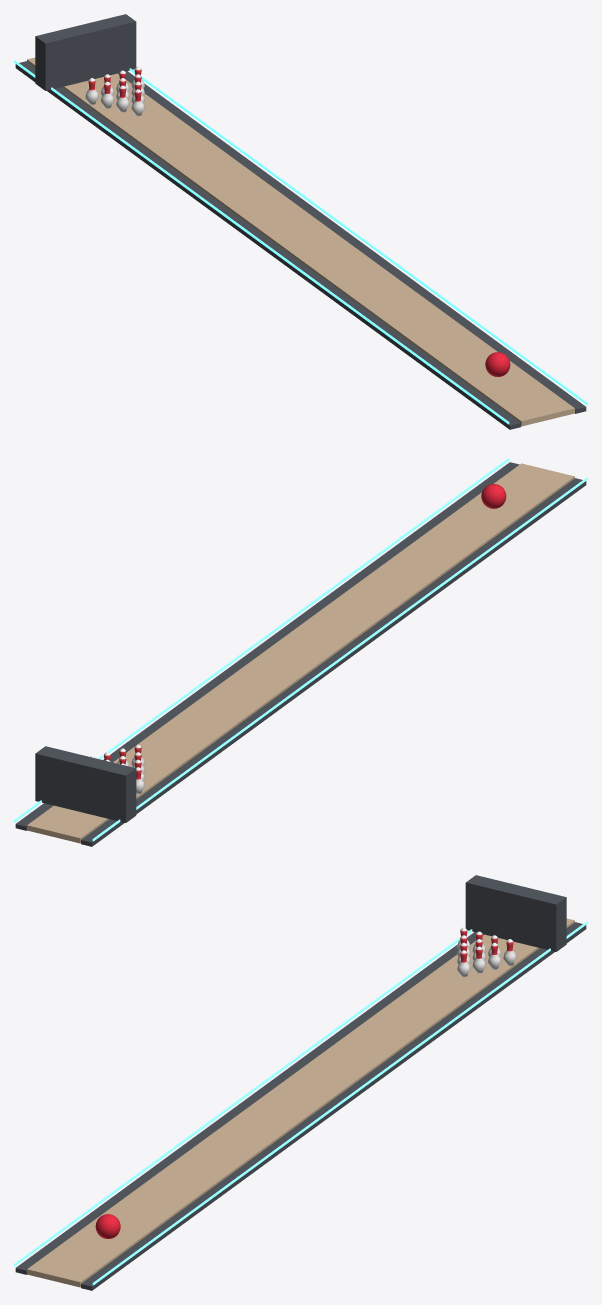
Rendered from bowling_strike.glb.
3 renders of one model, top to bottom at view 1: azimuth 30°, elevation 25°; view 2: azimuth 150°, elevation 25°; view 3: azimuth 330°, elevation 25°, orthographic.
Parts seen in each view (by area): view 1: BowlingLane_Parquet, GutterChannel_-1, Lane_Backstop, GutterChannel_1, NeonRail_-1, NeonRail_1; view 2: BowlingLane_Parquet, GutterChannel_-1, Lane_Backstop, GutterChannel_1, NeonRail_-1, NeonRail_1, BowlingBall; view 3: BowlingLane_Parquet, GutterChannel_1, Lane_Backstop, GutterChannel_-1, NeonRail_1, NeonRail_-1.
Part boxes in pixels (<box>): BowlingLane_Parquet: <box>27,57,574,426</box>; GutterChannel_-1: <box>15,61,520,429</box>; Lane_Backstop: <box>35,14,136,90</box>; GutterChannel_1: <box>118,71,586,413</box>; NeonRail_-1: <box>14,60,509,424</box>; NeonRail_1: <box>129,68,587,405</box>; BowlingLane_Parquet: <box>27,463,574,843</box>; GutterChannel_-1: <box>81,478,586,846</box>; Lane_Backstop: <box>35,746,136,822</box>; GutterChannel_1: <box>15,462,519,830</box>; NeonRail_-1: <box>92,477,587,841</box>; NeonRail_1: <box>14,458,509,822</box>; BowlingBall: <box>481,484,506,508</box>; BowlingLane_Parquet: <box>27,918,574,1287</box>; GutterChannel_1: <box>81,922,586,1290</box>; Lane_Backstop: <box>465,875,566,951</box>; GutterChannel_-1: <box>15,932,483,1274</box>; NeonRail_1: <box>92,921,587,1285</box>; NeonRail_-1: <box>14,929,472,1266</box>.
Bounding box in the file's own units: 1.8 × 1.01 × 17.
